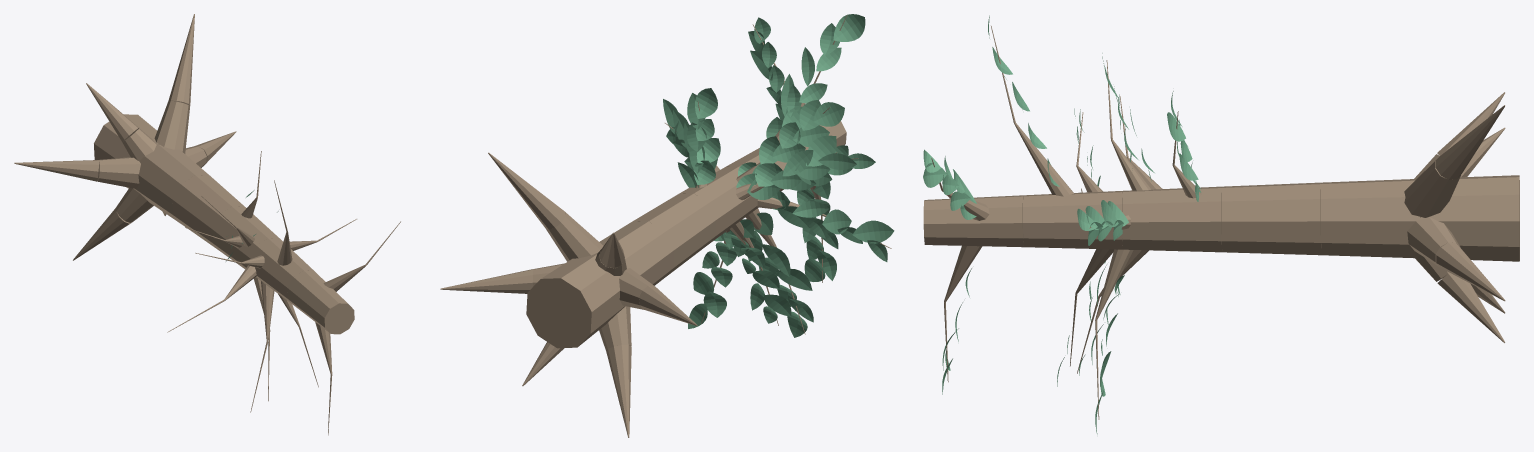
The model's file is Aquarion_Coastal_Broadleaf.glb.
3 renders of one model, left to right at view 1: azimuth 30°, elevation 25°; view 2: azimuth 150°, elevation 25°; view 3: azimuth 270°, elevation 25°, orthographic. The views are drawn at different scales.
Visible parts, largest first — view 1: Aquarion_Coastal_Broadleaf_trunk_1, Aquarion_Coastal_Broadleaf_trunk_2, Aquarion_Coastal_Broadleaf_trunk_5, Aquarion_Coastal_Broadleaf_trunk_3, Aquarion_Coastal_Broadleaf_trunk_4, Aquarion_Coastal_Broadleaf_buttress_1_0, Aquarion_Coastal_Broadleaf_trunk_0, Aquarion_Coastal_Broadleaf_buttress_3_0, Aquarion_Coastal_Broadleaf_buttress_1_1, Aquarion_Coastal_Broadleaf_buttress_3_1, Aquarion_Coastal_Broadleaf_buttress_2_1, Aquarion_Coastal_Broadleaf_buttress_4_0 (+4 smaller); view 2: Aquarion_Coastal_Broadleaf_trunk_0, Aquarion_Coastal_Broadleaf_trunk_2, Aquarion_Coastal_Broadleaf_trunk_1, Aquarion_Coastal_Broadleaf_trunk_3, Aquarion_Coastal_Broadleaf_buttress_1_1, Aquarion_Coastal_Broadleaf_buttress_1_0, Aquarion_Coastal_Broadleaf_buttress_4_1, Aquarion_Coastal_Broadleaf_buttress_0_1, Aquarion_Coastal_Broadleaf_buttress_3_1, Aquarion_Coastal_Broadleaf_buttress_4_0, Aquarion_Coastal_Broadleaf_buttress_3_0, Aquarion_Coastal_Broadleaf_leaf_7_7 (+15 smaller); view 3: Aquarion_Coastal_Broadleaf_trunk_2, Aquarion_Coastal_Broadleaf_trunk_1, Aquarion_Coastal_Broadleaf_trunk_3, Aquarion_Coastal_Broadleaf_trunk_0, Aquarion_Coastal_Broadleaf_trunk_4, Aquarion_Coastal_Broadleaf_trunk_5, Aquarion_Coastal_Broadleaf_buttress_1_0, Aquarion_Coastal_Broadleaf_buttress_1_1, Aquarion_Coastal_Broadleaf_buttress_0_1, Aquarion_Coastal_Broadleaf_buttress_0_0, Aquarion_Coastal_Broadleaf_buttress_5_1, Aquarion_Coastal_Broadleaf_branch_7_0 (+4 smaller).
Part boxes in pixels (box(x1,y1,x2,y2)): Aquarion_Coastal_Broadleaf_trunk_1: box(135, 144, 209, 224); Aquarion_Coastal_Broadleaf_trunk_2: box(172, 175, 244, 250); Aquarion_Coastal_Broadleaf_trunk_5: box(287, 270, 354, 334); Aquarion_Coastal_Broadleaf_trunk_3: box(211, 206, 279, 277); Aquarion_Coastal_Broadleaf_trunk_4: box(249, 238, 313, 304); Aquarion_Coastal_Broadleaf_buttress_1_0: box(154, 101, 189, 153); Aquarion_Coastal_Broadleaf_trunk_0: box(94, 114, 159, 190); Aquarion_Coastal_Broadleaf_buttress_3_0: box(97, 157, 140, 188); Aquarion_Coastal_Broadleaf_buttress_1_1: box(168, 14, 194, 105); Aquarion_Coastal_Broadleaf_buttress_3_1: box(14, 160, 99, 181); Aquarion_Coastal_Broadleaf_buttress_2_1: box(86, 83, 138, 141); Aquarion_Coastal_Broadleaf_buttress_4_0: box(116, 187, 153, 222); Aquarion_Coastal_Broadleaf_trunk_0: box(526, 253, 625, 348); Aquarion_Coastal_Broadleaf_trunk_2: box(632, 193, 716, 278); Aquarion_Coastal_Broadleaf_trunk_1: box(599, 221, 674, 285); Aquarion_Coastal_Broadleaf_trunk_3: box(679, 166, 757, 245); Aquarion_Coastal_Broadleaf_buttress_1_1: box(488, 152, 565, 229); Aquarion_Coastal_Broadleaf_buttress_1_0: box(546, 212, 603, 261); Aquarion_Coastal_Broadleaf_buttress_4_1: box(606, 344, 631, 437); Aquarion_Coastal_Broadleaf_buttress_0_1: box(440, 269, 533, 293); Aquarion_Coastal_Broadleaf_buttress_3_1: box(639, 286, 697, 325); Aquarion_Coastal_Broadleaf_buttress_4_0: box(599, 306, 631, 350); Aquarion_Coastal_Broadleaf_buttress_3_0: box(619, 268, 654, 309); Aquarion_Coastal_Broadleaf_leaf_7_7: box(833, 14, 865, 41); Aquarion_Coastal_Broadleaf_trunk_2: box(1221, 182, 1321, 255); Aquarion_Coastal_Broadleaf_trunk_1: box(1321, 179, 1419, 258); Aquarion_Coastal_Broadleaf_trunk_3: box(1122, 186, 1222, 252); Aquarion_Coastal_Broadleaf_trunk_0: box(1420, 175, 1519, 261); Aquarion_Coastal_Broadleaf_trunk_4: box(1023, 191, 1122, 249); Aquarion_Coastal_Broadleaf_trunk_5: box(923, 195, 1023, 247); Aquarion_Coastal_Broadleaf_buttress_1_0: box(1404, 161, 1461, 217); Aquarion_Coastal_Broadleaf_buttress_1_1: box(1435, 105, 1505, 179); Aquarion_Coastal_Broadleaf_buttress_0_1: box(1436, 242, 1505, 301); Aquarion_Coastal_Broadleaf_buttress_0_0: box(1407, 217, 1460, 266); Aquarion_Coastal_Broadleaf_buttress_5_1: box(1437, 273, 1505, 342); Aquarion_Coastal_Broadleaf_branch_7_0: box(1014, 123, 1074, 196).
Bounding box in the file's own units: 4.25 × 4.71 × 7.22.
